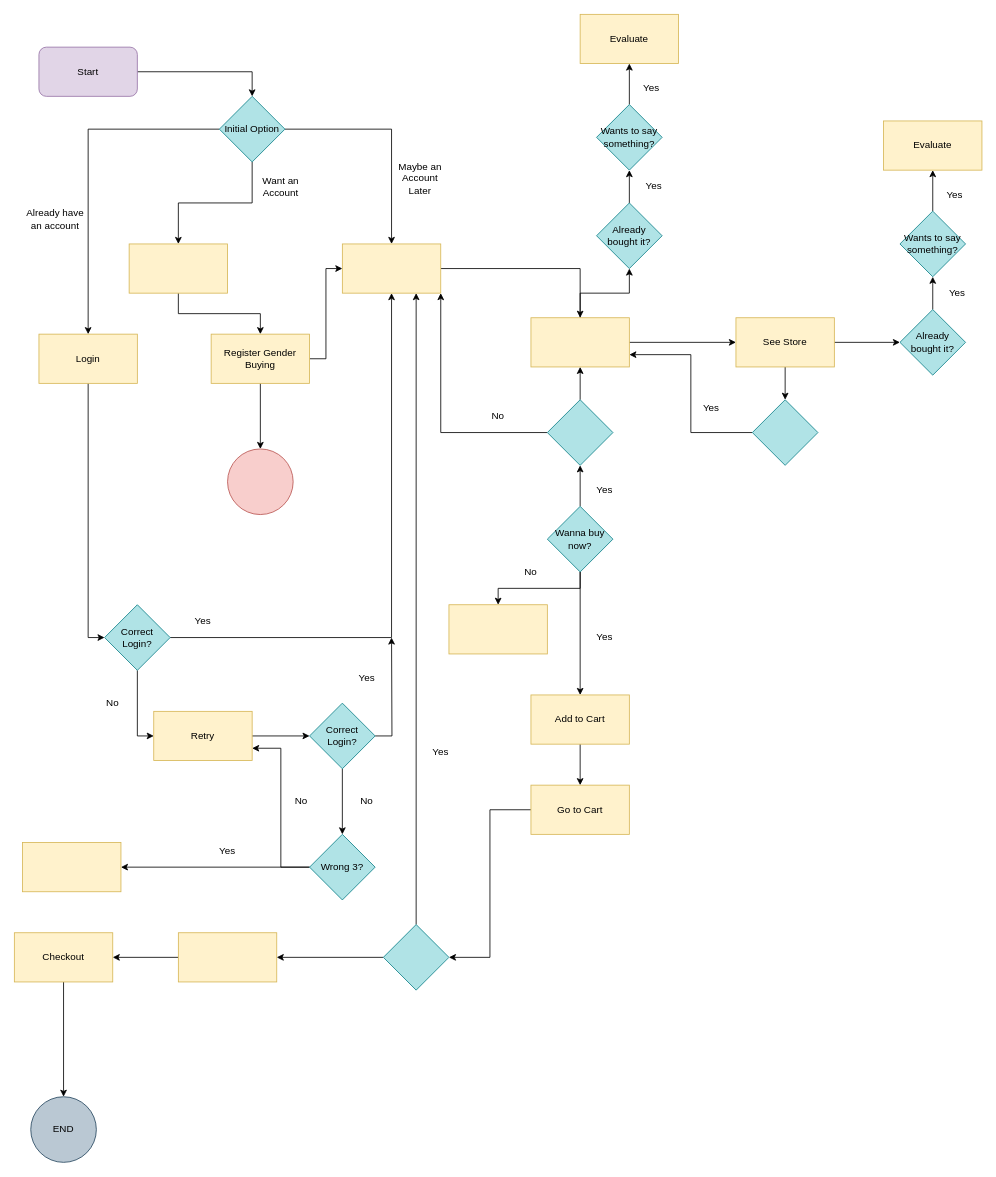
Some shapes in this 996 by 1177 pixel diagram are drawn without their labels. Each missing label, with the centre of its shape:
"Add to Favorites" belongs at (497,629).
"Confirm Shopping" belongs at (227,957).
"Liked a Product?" belongs at (785,432).
"Liked it?" belongs at (580,432).
"Password Reset" belongs at (71,867).
"Register" belongs at (178,268).
"See Product" belongs at (579,342).
"Shop Home" belongs at (391,268).
"Verify Email" belongs at (260,481).
"Wanna buy more?" belongs at (416,957).
